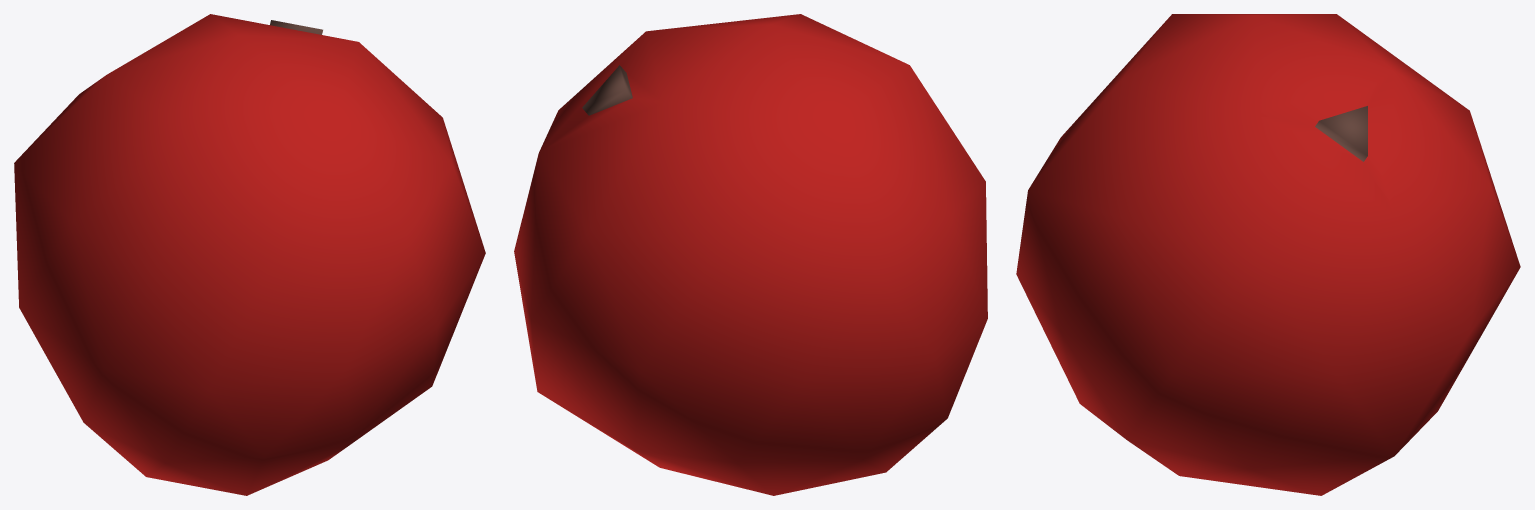
File: apple.fbx
The picture shows the model from 3 angles, left to right: view 1: azimuth 30°, elevation 25°; view 2: azimuth 150°, elevation 25°; view 3: azimuth 270°, elevation 25°; orthographic projection. The views are drawn at different scales.
Visible parts, largest first — view 1: apple; view 2: apple; view 3: apple.
Boxes of the visible parts, box(x1,y1,x2,y2) form: apple: box(14, 14, 485, 495); apple: box(514, 14, 987, 495); apple: box(1016, 14, 1520, 495).
Size of the model in its own units: 19.25 by 20.3 by 20.15.
